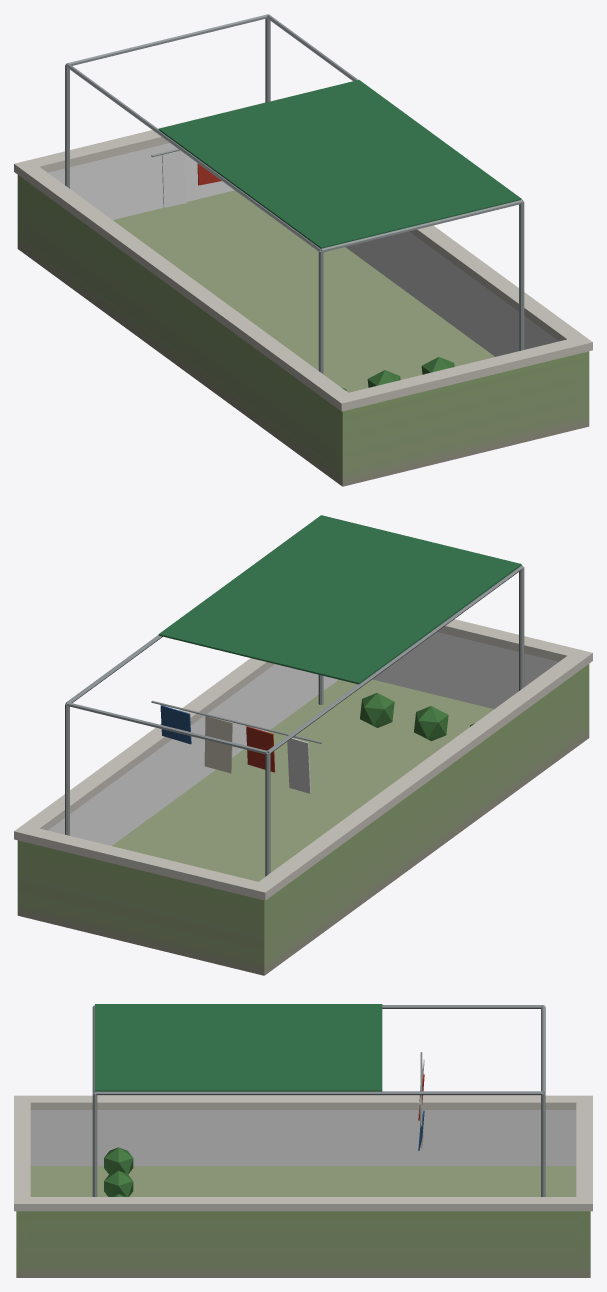
Rendered from mai_luoi_32.glb.
The picture shows the model from 3 angles, top to bottom: view 1: azimuth 30°, elevation 25°; view 2: azimuth 150°, elevation 25°; view 3: azimuth 270°, elevation 25°; orthographic projection. The views are drawn at different scales.
Parts seen in each view (by area): view 1: mai_luoi_32; view 2: mai_luoi_32; view 3: mai_luoi_32.
Boxes of the visible parts, <box> form: mai_luoi_32: <box>14,14,592,486</box>; mai_luoi_32: <box>14,515,592,975</box>; mai_luoi_32: <box>14,1004,592,1277</box>.
Bounding box in the file's own units: 3.26 × 2.49 × 7.36.
